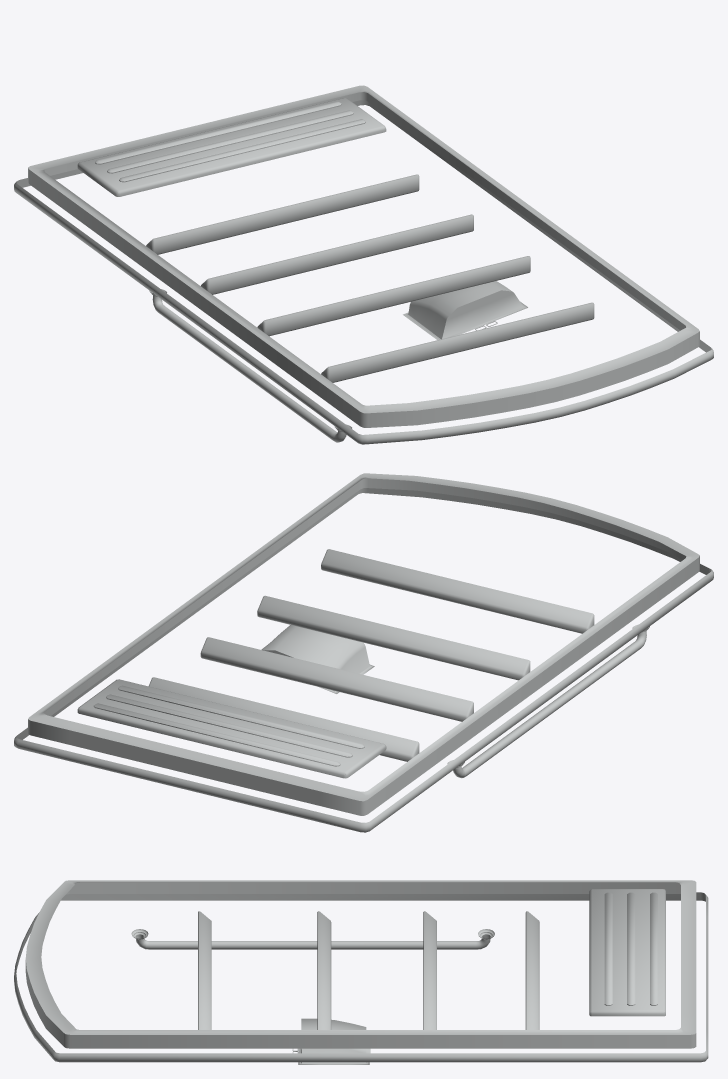
Rendered from MeshFridgeDoorE6_1_GeomSubset_1.obj.
The picture shows the model from 3 angles, top to bottom: view 1: azimuth 30°, elevation 25°; view 2: azimuth 150°, elevation 25°; view 3: azimuth 270°, elevation 25°; orthographic projection. The views are drawn at different scales.
Visible parts, largest first — view 1: MeshFridgeDoorE6_1_GeomSubset_1; view 2: MeshFridgeDoorE6_1_GeomSubset_1; view 3: MeshFridgeDoorE6_1_GeomSubset_1.
Part boxes in pixels (<box>): MeshFridgeDoorE6_1_GeomSubset_1: <box>14,85,713,444</box>; MeshFridgeDoorE6_1_GeomSubset_1: <box>14,473,713,832</box>; MeshFridgeDoorE6_1_GeomSubset_1: <box>14,880,708,1064</box>.
Size of the model in its own units: 0.7713 by 0.3582 by 1.4.
